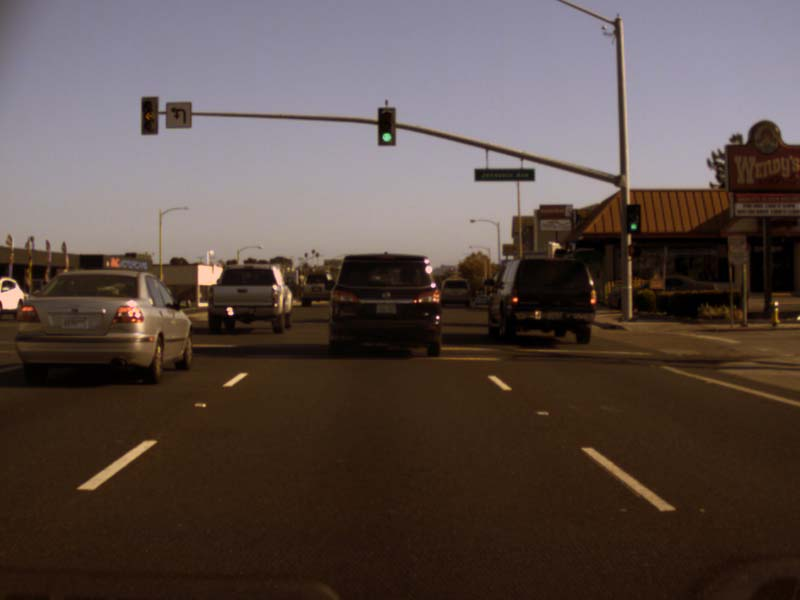Green: (378, 107, 395, 145), (626, 204, 640, 232)
Yellow: (142, 98, 156, 133)
